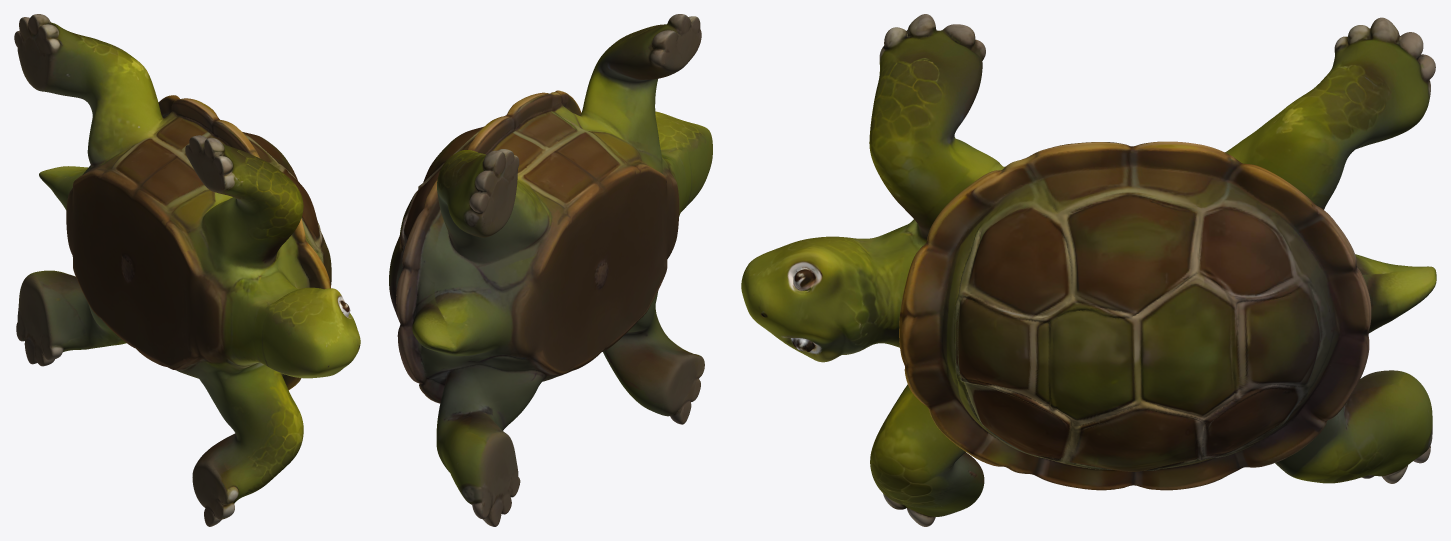
The model's file is tortoise.glb.
3 renders of one model, left to right at view 1: azimuth 30°, elevation 25°; view 2: azimuth 150°, elevation 25°; view 3: azimuth 270°, elevation 25°, orthographic. The views are drawn at different scales.
Visible parts, largest first — view 1: tripo_node_3315fda1-6faa-4793-93cb-359d540f8d33; view 2: tripo_node_3315fda1-6faa-4793-93cb-359d540f8d33; view 3: tripo_node_3315fda1-6faa-4793-93cb-359d540f8d33.
Part boxes in pixels (x1,y1,x2,y2): tripo_node_3315fda1-6faa-4793-93cb-359d540f8d33: [14, 14, 360, 526]; tripo_node_3315fda1-6faa-4793-93cb-359d540f8d33: [389, 14, 712, 526]; tripo_node_3315fda1-6faa-4793-93cb-359d540f8d33: [741, 14, 1436, 526].
Size of the model in its own units: 0.3776 by 0.8102 by 1.
1 material, 1 textured.
